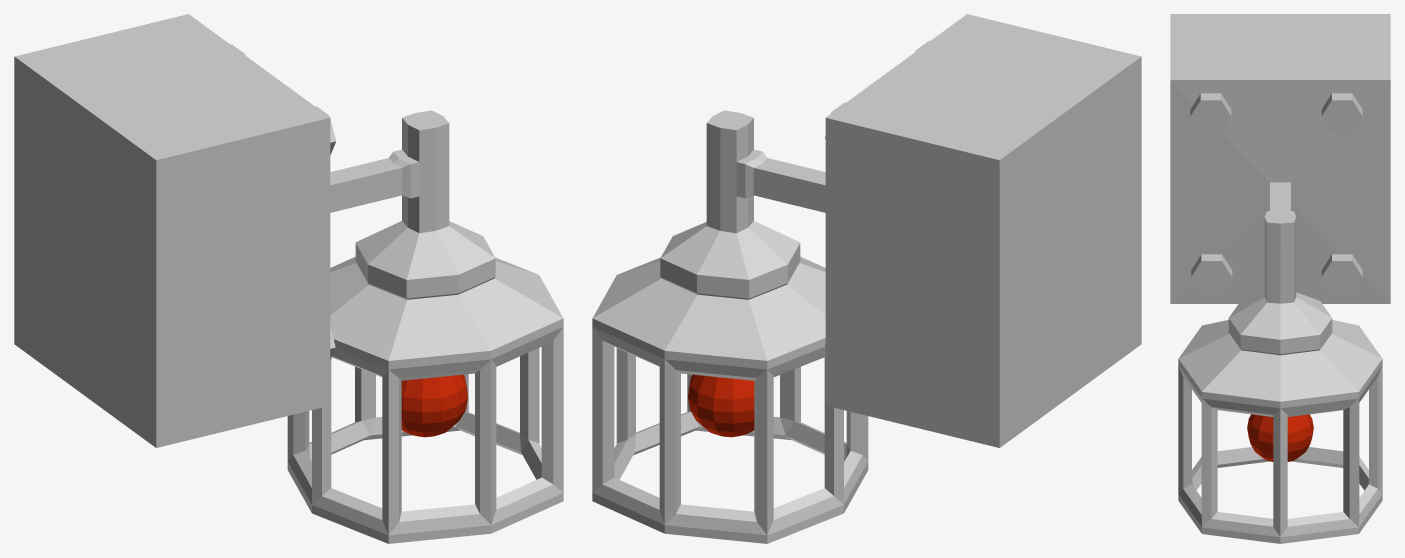
File: Lamp.fbx
3 views of the same model, side by side, from view 1: azimuth 30°, elevation 25°; view 2: azimuth 150°, elevation 25°; view 3: azimuth 270°, elevation 25° (orthographic). The views are drawn at different scales.
Visible parts, largest first — view 1: Cube.001, Sphere; view 2: Cube.001, Sphere; view 3: Cube.001, Sphere.
Part boxes in pixels (<box>): Cube.001: <box>14,14,563,543</box>; Sphere: <box>401,374,467,437</box>; Cube.001: <box>592,14,1141,543</box>; Sphere: <box>688,374,754,437</box>; Cube.001: <box>1170,14,1390,543</box>; Sphere: <box>1247,414,1313,461</box>.
Size of the model in its own units: 635 by 616 by 344.
